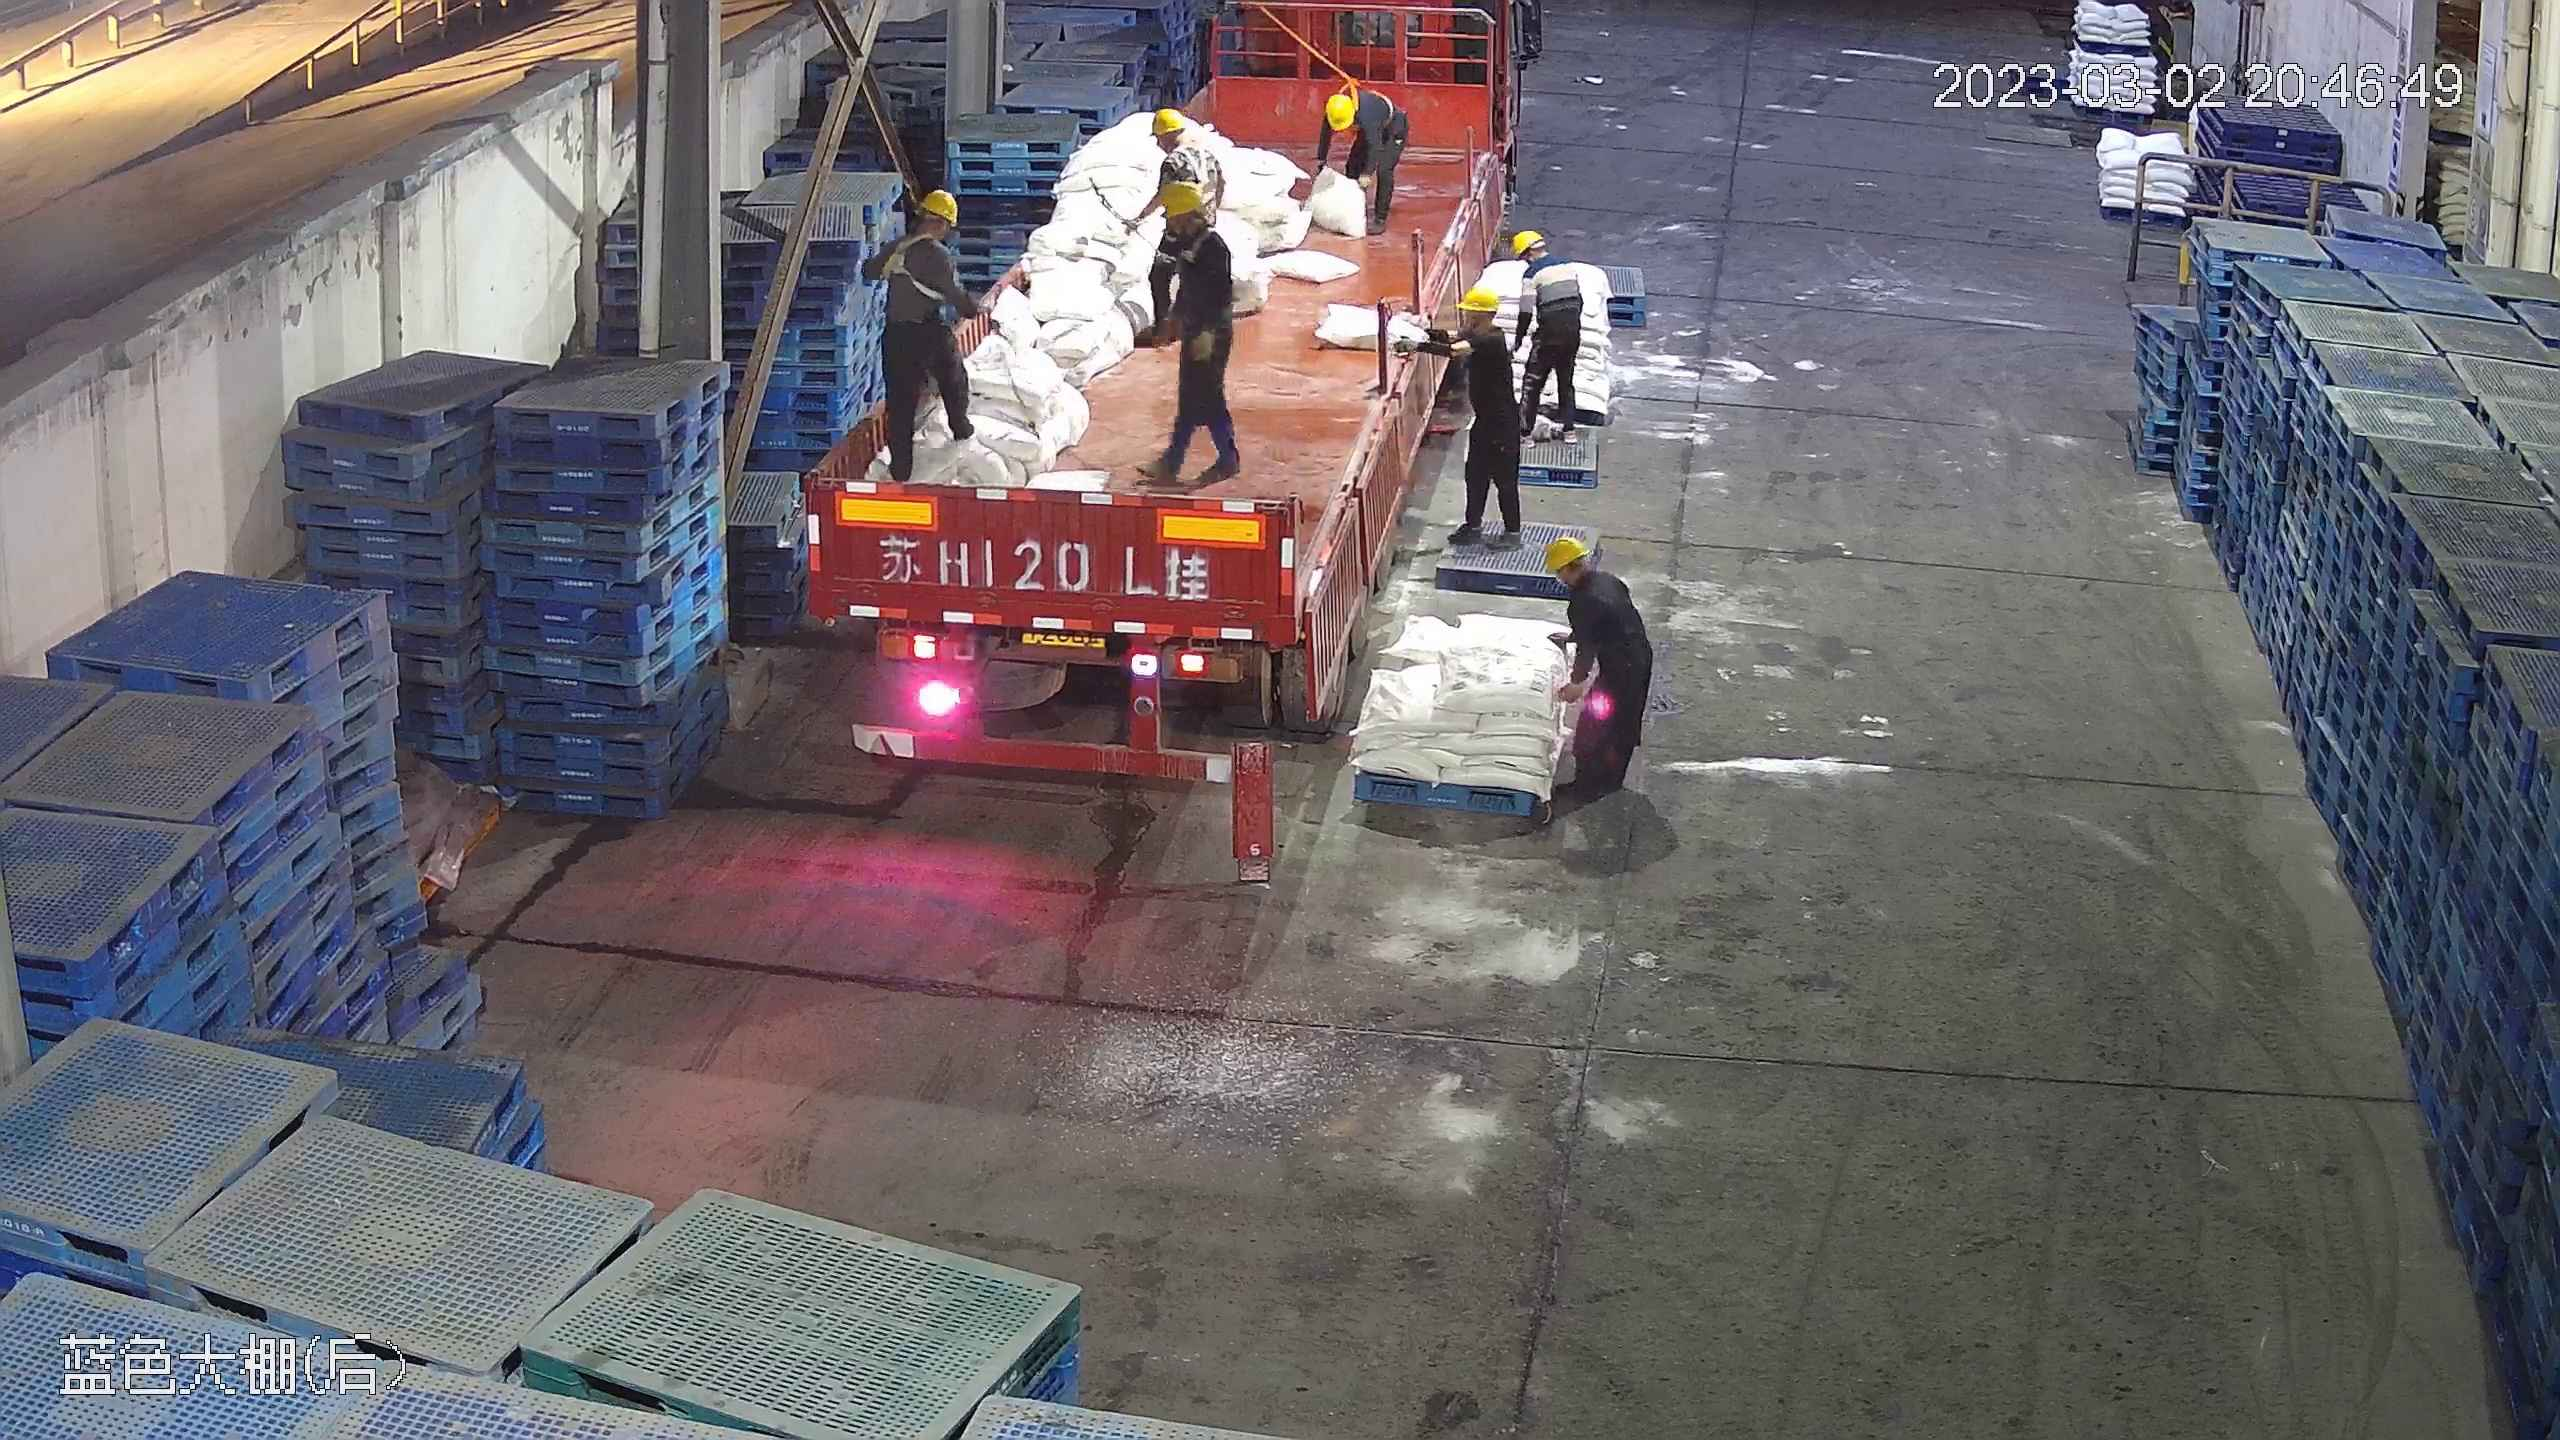belt: (877, 232, 948, 307), (1178, 140, 1225, 209), (1345, 87, 1397, 135), (1178, 230, 1220, 260)
head: (1507, 226, 1586, 435), (1542, 534, 1641, 635), (871, 186, 965, 285), (1151, 180, 1235, 278), (1443, 284, 1519, 371), (1511, 228, 1581, 309), (1314, 84, 1393, 141)
helmet: (1156, 175, 1210, 216), (1541, 533, 1589, 573), (912, 187, 961, 226), (1320, 86, 1355, 131), (1458, 285, 1504, 316), (1149, 105, 1185, 137), (1514, 227, 1547, 256)
people: (854, 185, 994, 475), (1540, 530, 1659, 836), (1144, 171, 1243, 482), (1437, 281, 1530, 549), (1507, 225, 1588, 442), (1306, 81, 1407, 230)
truck: (797, 35, 1510, 793)
